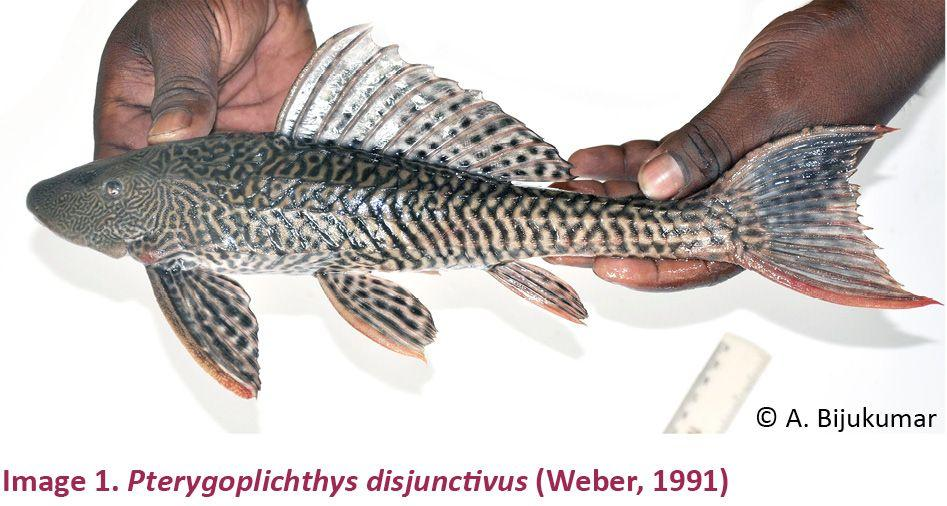Janitor Fish: (28, 25, 940, 401)
